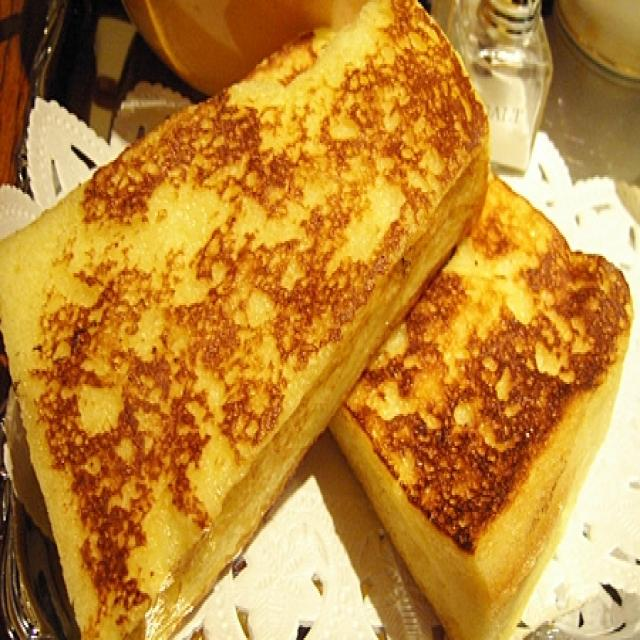面包点心: (7, 15, 623, 625)
